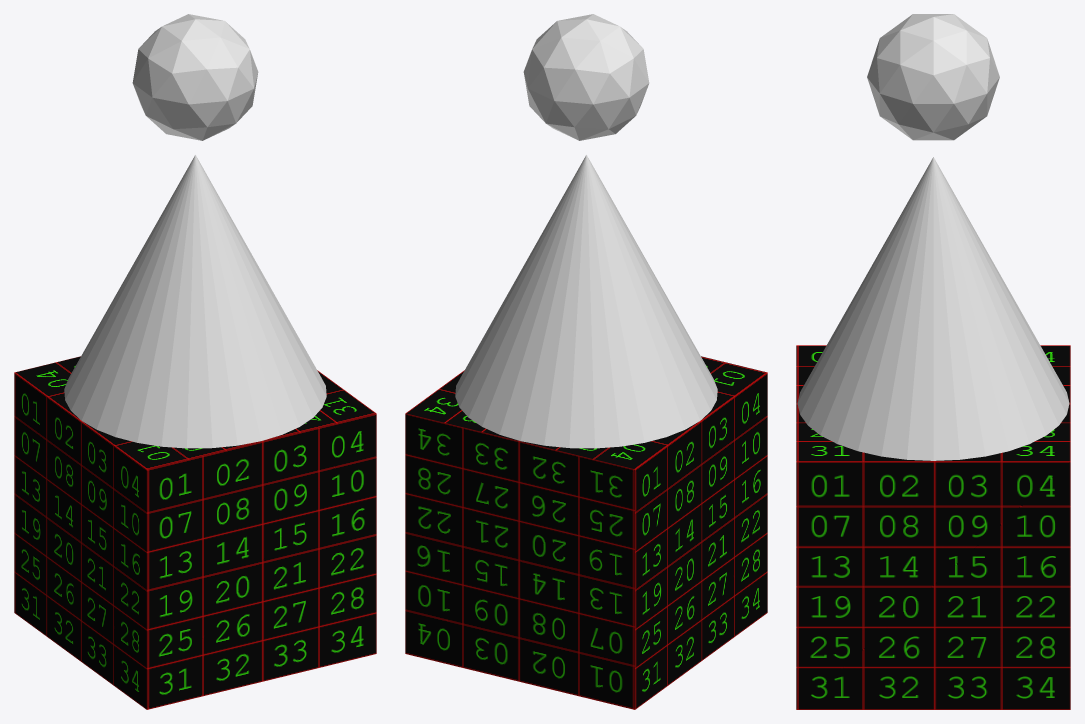
The model's file is testModel3.dae.
3 views of the same model, side by side, from view 1: azimuth 30°, elevation 25°; view 2: azimuth 150°, elevation 25°; view 3: azimuth 270°, elevation 25° (orthographic). The views are drawn at different scales.
Visible parts, largest first — view 1: Cube, Cone, Icosphere; view 2: Cube, Cone, Icosphere; view 3: Cube, Cone, Icosphere.
Part boxes in pixels (box(x1,y1,x2,y2)): Cube: box(14, 356, 376, 709); Cone: box(64, 155, 326, 448); Icosphere: box(132, 14, 258, 140); Cube: box(405, 356, 767, 709); Cone: box(455, 155, 717, 448); Icosphere: box(523, 14, 649, 140); Cube: box(796, 345, 1070, 709); Cone: box(797, 157, 1069, 460); Icosphere: box(867, 14, 999, 140).
Bounding box in the file's own units: 2 × 2 × 5.11.
